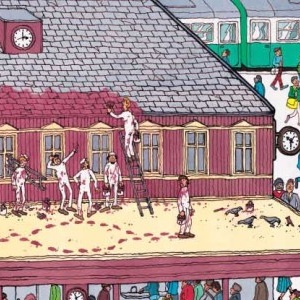Charlie: (129, 67, 171, 111), (133, 68, 173, 114)
